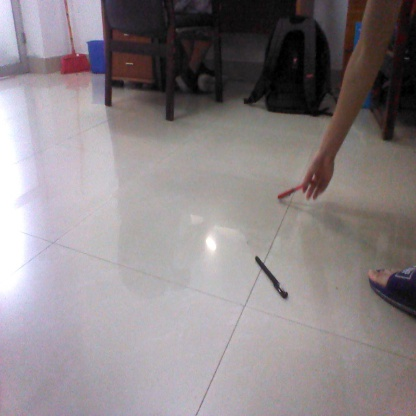pen: (254, 254, 289, 298), (277, 179, 315, 197)
